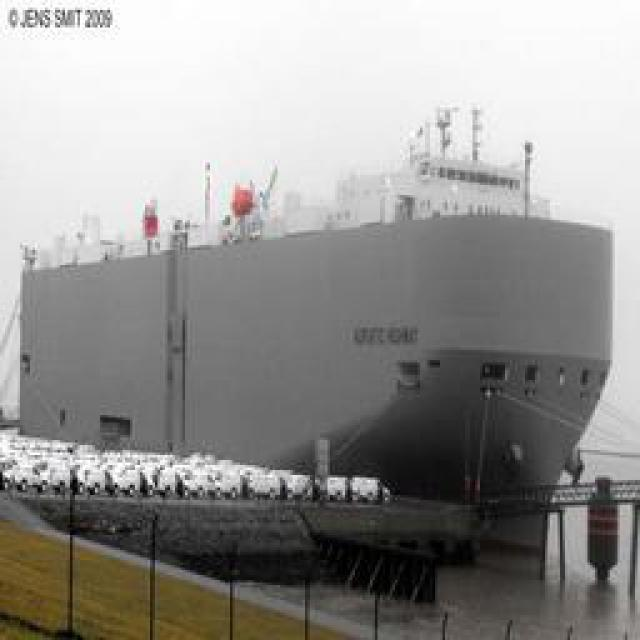Ship: (11, 92, 629, 569)
